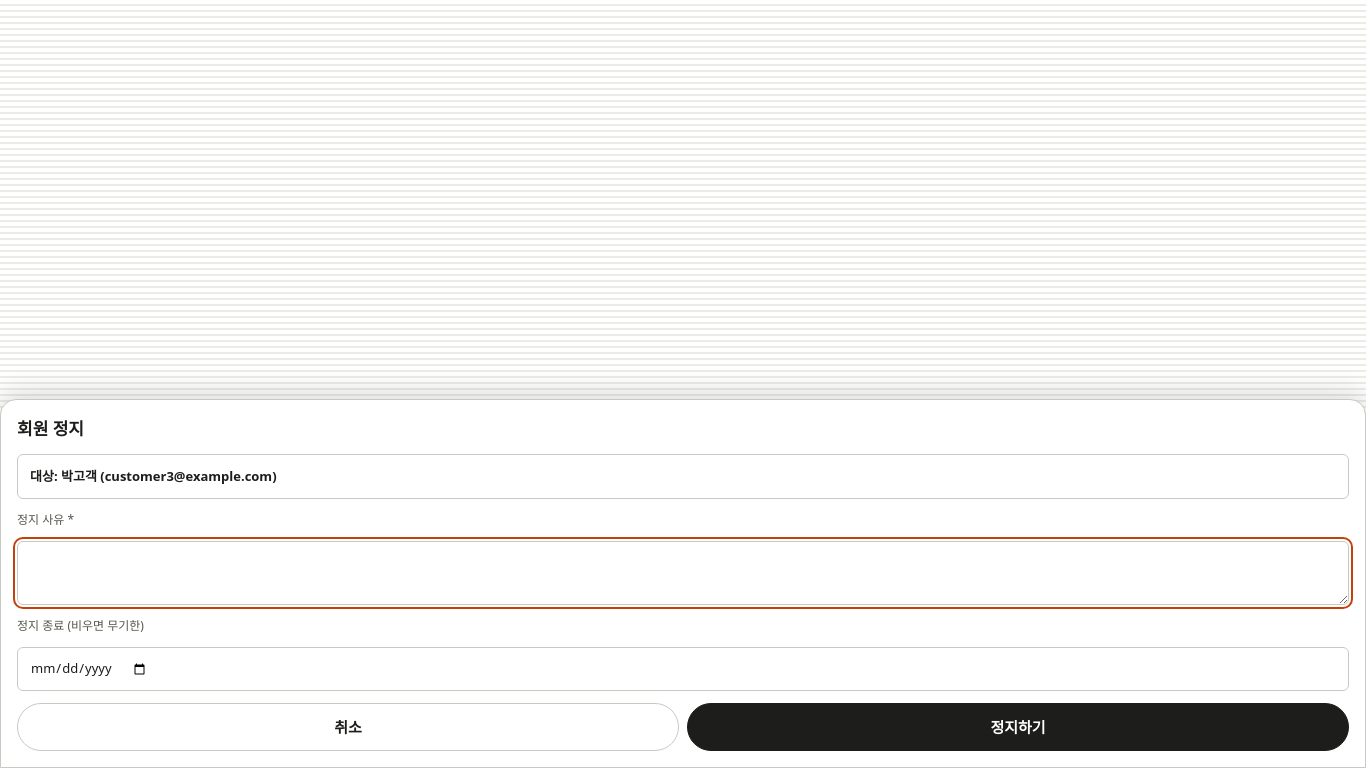
Test: SanctionSheet (M2) › 서버 오류 문구를 보인다
Type "x" into the text box labelled "정지 사유 *" at point(683, 573), box x1=17 y1=541 x2=1349 y2=605
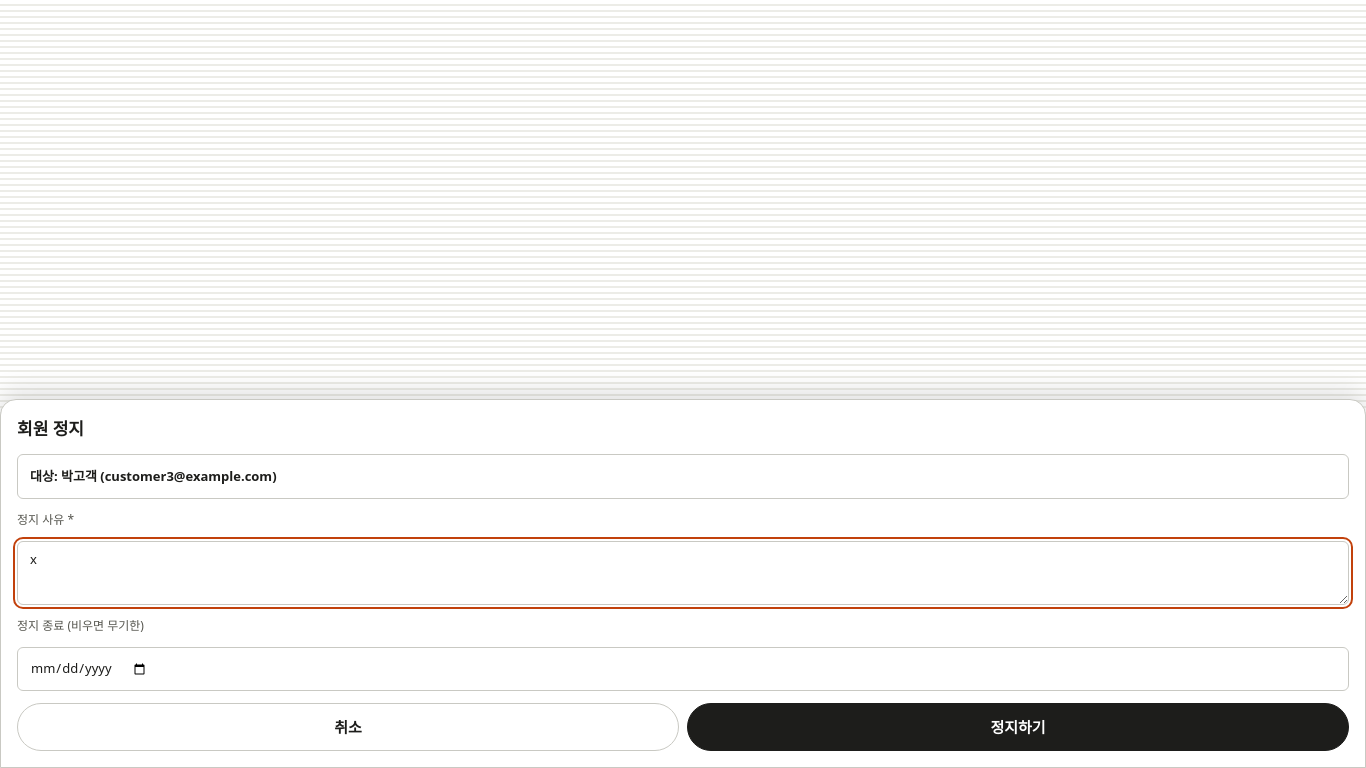
Click the button "정지하기" at point(1018, 727), box x1=687 y1=703 x2=1349 y2=751
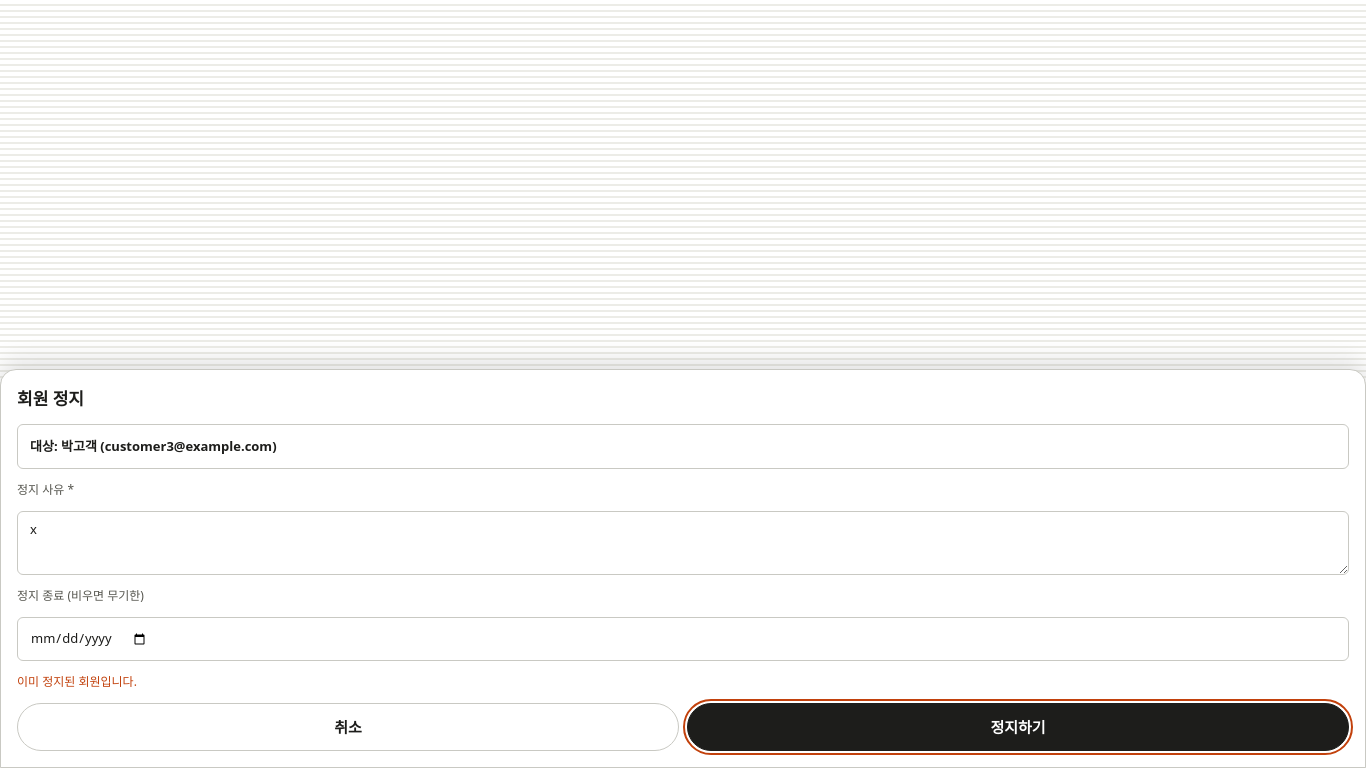
Expected: the message reads "이미 정지된 회원입니다.", x1=17 y1=673 x2=137 y2=690
